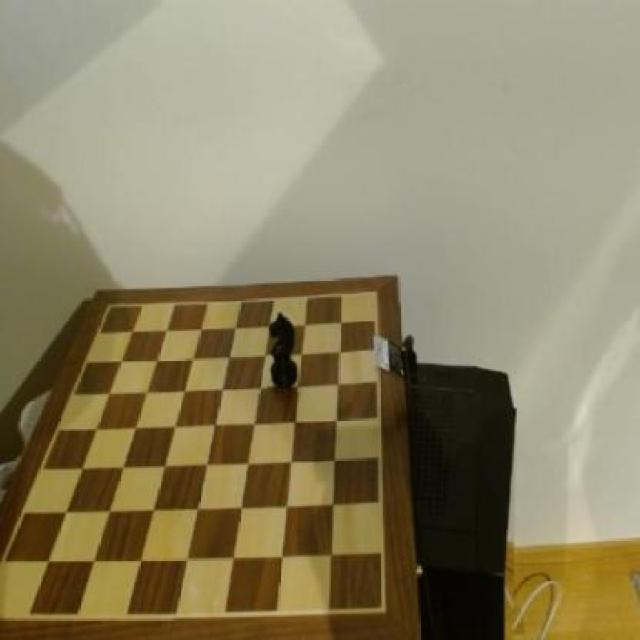black-king: (268, 312, 304, 394)
